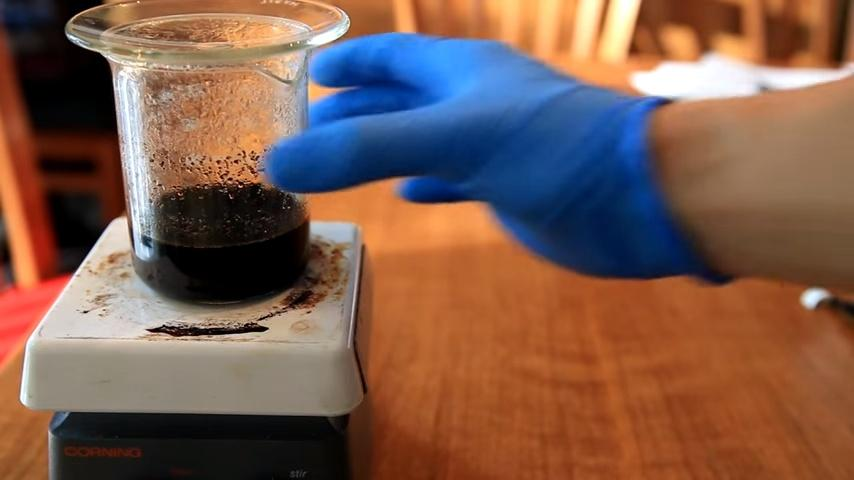Beaker: (99, 29, 315, 311)
